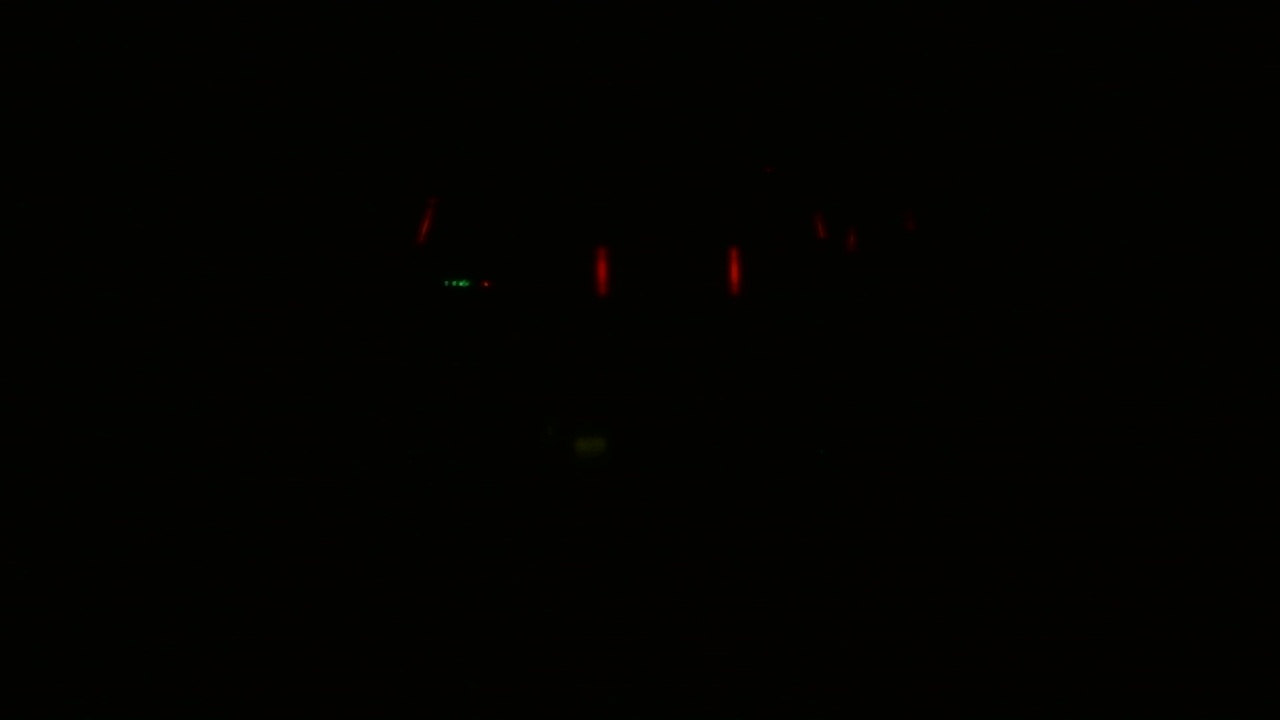pair1: (592, 240, 743, 296)
